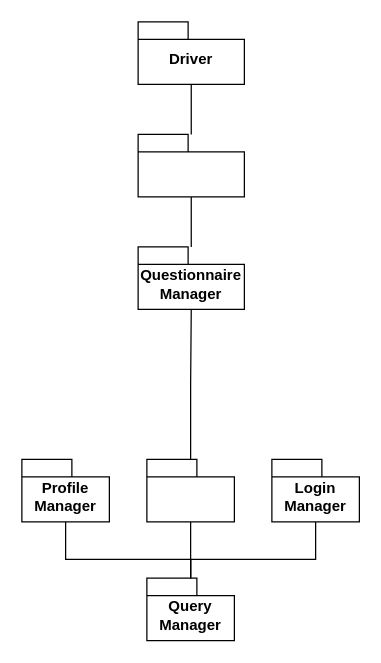
The diagram is 381 pixels wide and 663 high, and some of its shapes have lost their labels. The centre of each missing label's shape, as x and y in pixels:
"Internship Manager" goes at (190,165).
"Notification Manager" goes at (190,490).
